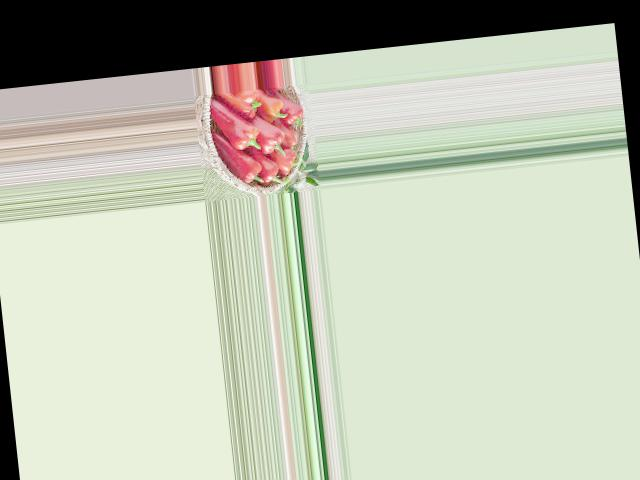bell_pepper: (257, 156, 284, 188)
